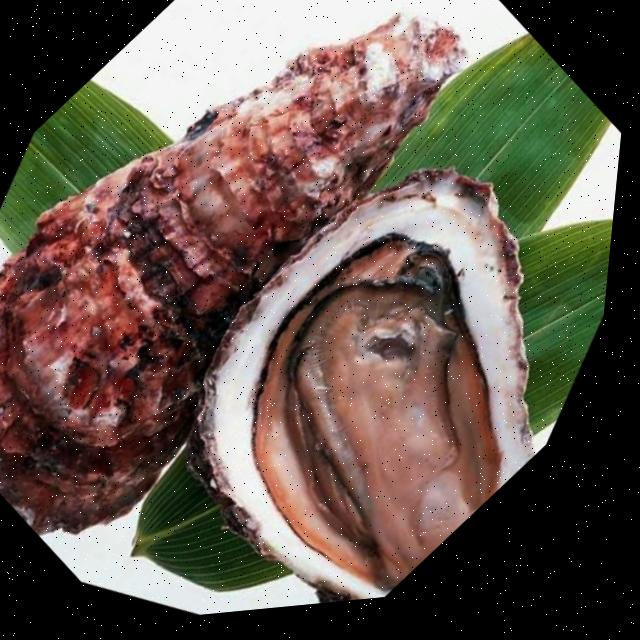Oyster-Indeterminate: (0, 0, 485, 565)
Oyster-Open: (174, 148, 541, 606)
